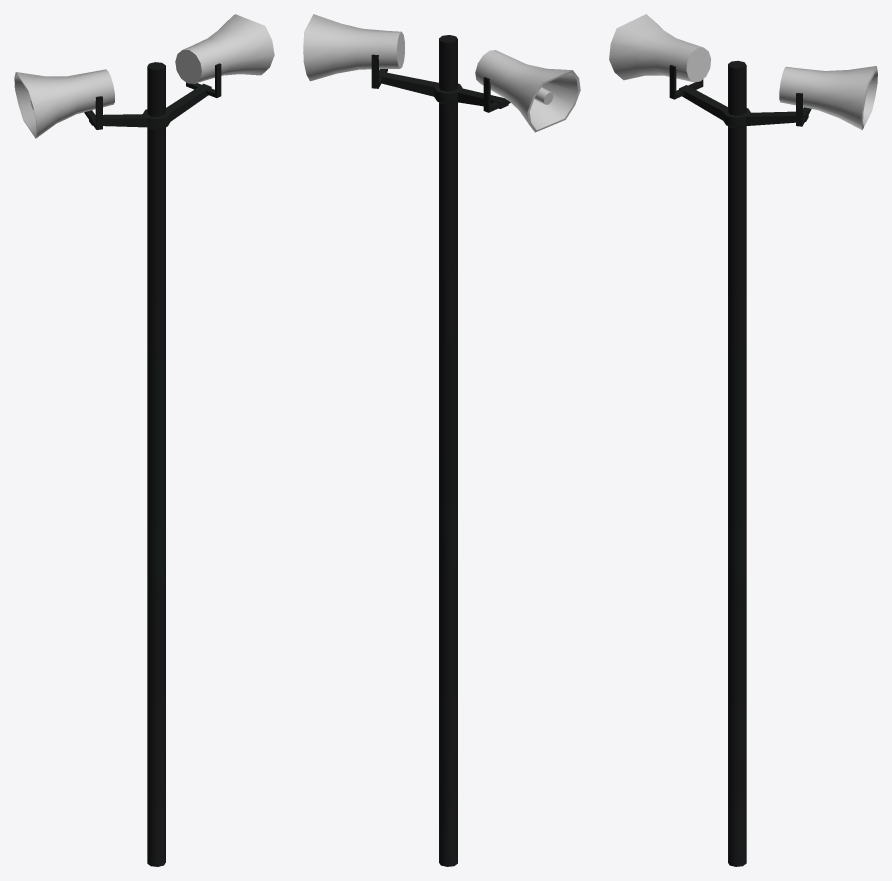
Rendered from megaphone.obj.
3 renders of one model, left to right at view 1: azimuth 30°, elevation 25°; view 2: azimuth 150°, elevation 25°; view 3: azimuth 330°, elevation 25°, orthographic. The views are drawn at different scales.
Visible parts, largest first — view 1: Light-01_Light-01.003; view 2: Light-01_Light-01.003; view 3: Light-01_Light-01.003.
Part boxes in pixels (x1,y1,x2,y2): Light-01_Light-01.003: (14,14,274,866); Light-01_Light-01.003: (303,14,580,866); Light-01_Light-01.003: (609,14,877,866).
Size of the model in its own units: 2.26 by 7.03 by 0.7002.
